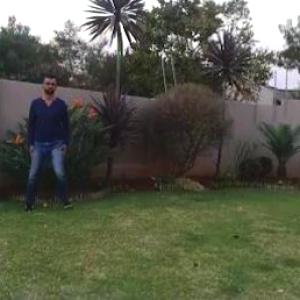follow: (28, 69, 69, 207)
